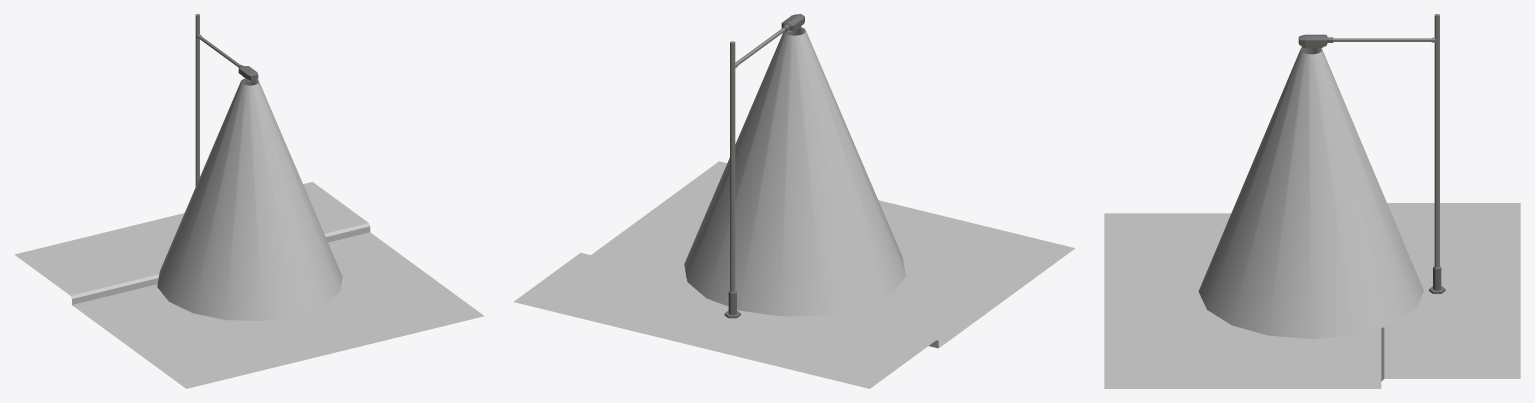
File: StreetLight.fbx
3 views of the same model, side by side, from view 1: azimuth 30°, elevation 25°; view 2: azimuth 150°, elevation 25°; view 3: azimuth 270°, elevation 25° (orthographic). The views are drawn at different scales.
Visible parts, largest first — view 1: FakeLight, Pole; view 2: FakeLight, Pole; view 3: FakeLight, Pole.
Boxes of the visible parts, bbox=[...] form: FakeLight: bbox=[14, 78, 484, 388]; Pole: bbox=[195, 14, 258, 186]; FakeLight: bbox=[514, 27, 1075, 388]; Pole: bbox=[724, 14, 804, 318]; FakeLight: bbox=[1104, 47, 1520, 388]; Pole: bbox=[1298, 14, 1445, 293].
Bounding box in the file's own units: 7.5 × 5.69 × 7.5.
